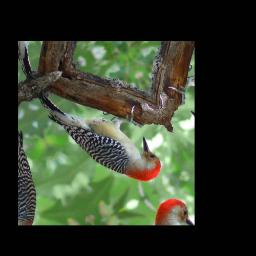Woodpecker: (33, 57, 173, 211)
